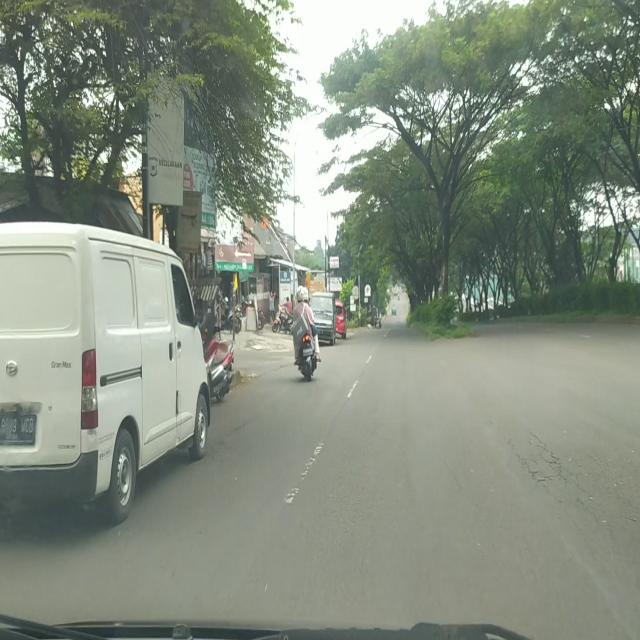Drain Hole: (512, 428, 602, 522)
